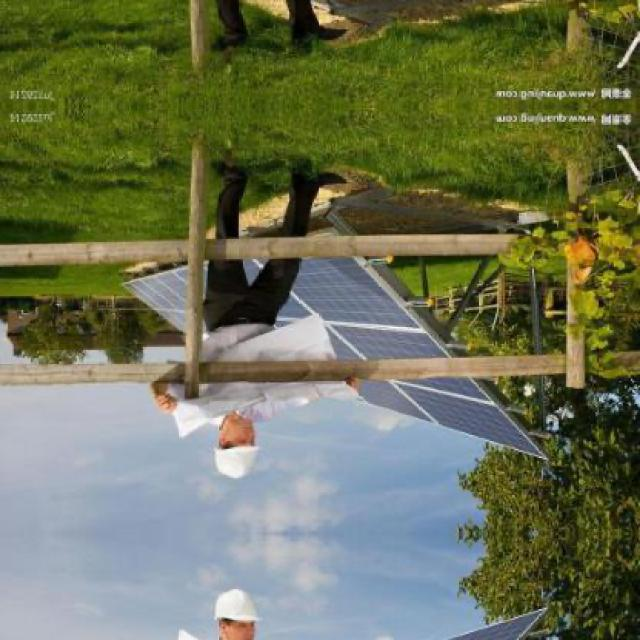con casco: (174, 386, 303, 482)
